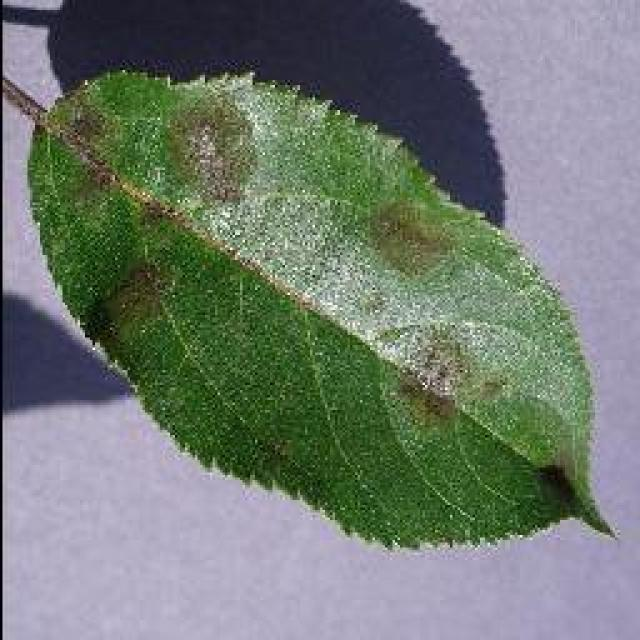apple scab disease: (22, 62, 618, 552)
